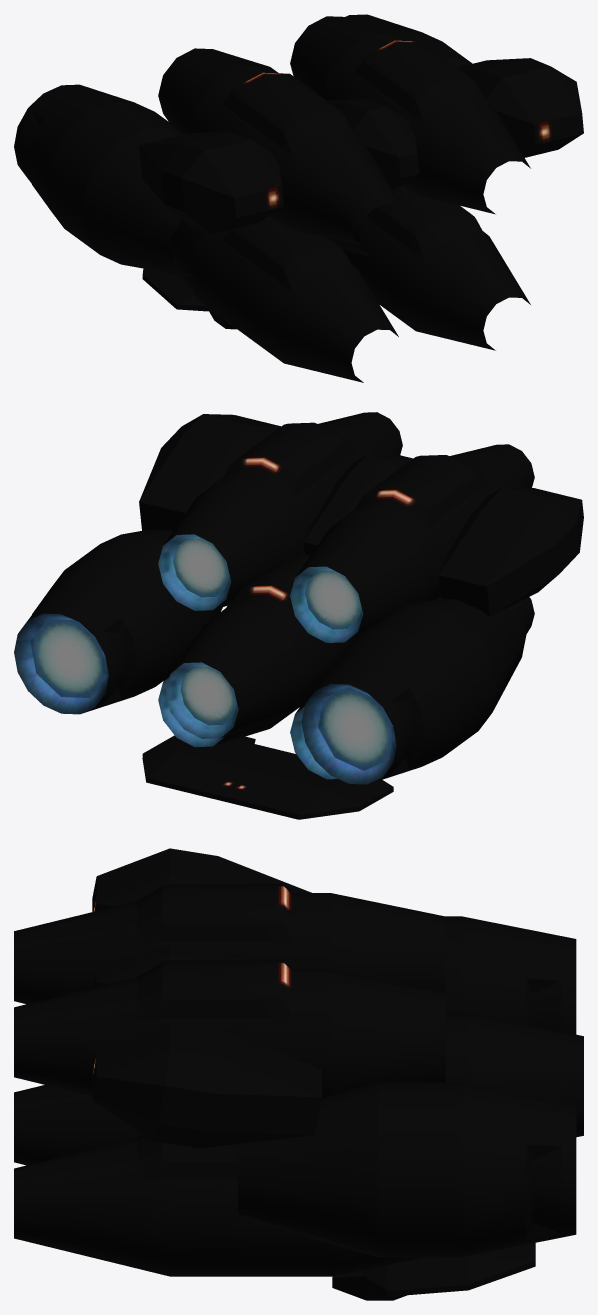
The model's file is hgn_fs_carrier_04_ion_engine_m.glb.
3 renders of one model, top to bottom at view 1: azimuth 30°, elevation 25°; view 2: azimuth 150°, elevation 25°; view 3: azimuth 270°, elevation 25°, orthographic. The views are drawn at different scales.
Visible parts, largest first — view 1: hgn_fs_carrier_04_ion_engine_m; view 2: hgn_fs_carrier_04_ion_engine_m; view 3: hgn_fs_carrier_04_ion_engine_m.
Boxes of the visible parts, <box> form: hgn_fs_carrier_04_ion_engine_m: <box>14,14,583,382</box>; hgn_fs_carrier_04_ion_engine_m: <box>14,412,583,819</box>; hgn_fs_carrier_04_ion_engine_m: <box>14,848,583,1300</box>.
Bounding box in the file's own units: 1.98 × 1.28 × 1.99.
Materials: 1 (1 with a texture image).
